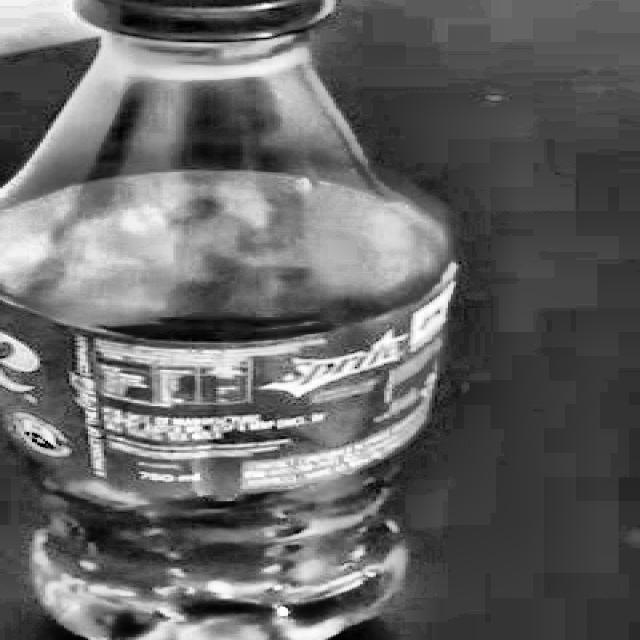bottle: (0, 0, 459, 640)
